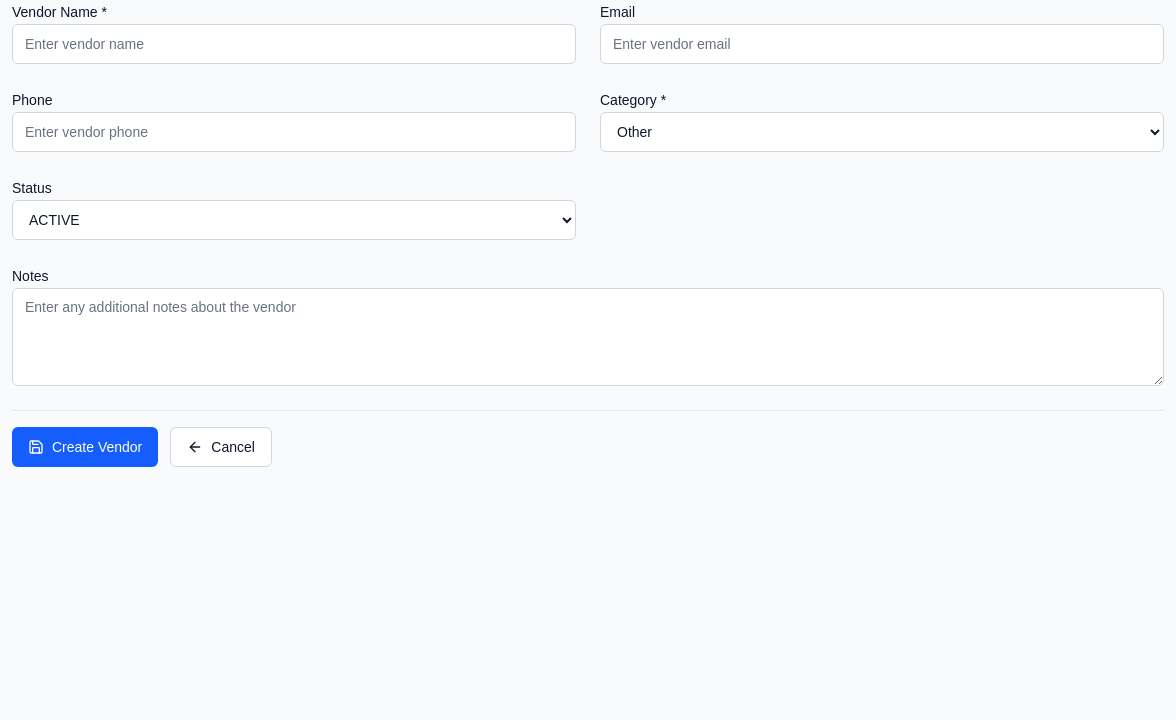
Test: VendorForm › shows validation errors for required fields
Click the button "Create Vendor": click(85, 447) [12,427,158,467]
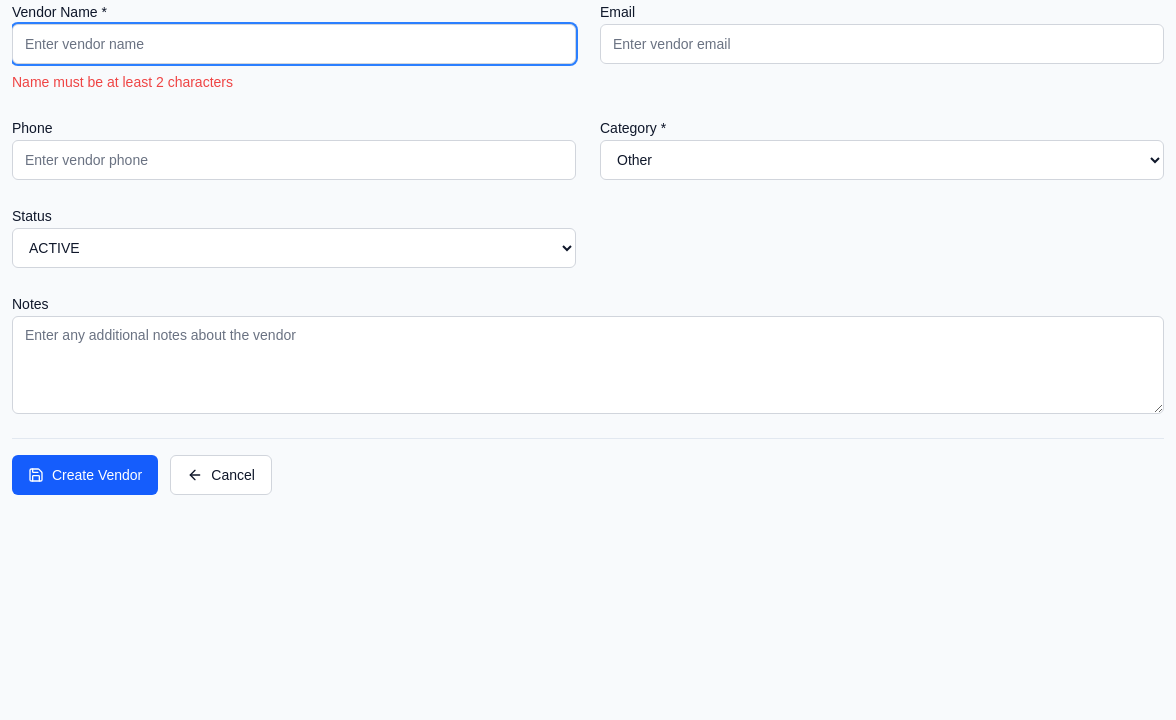
expect the text "Name must be at least 2 characters" is shown: met, box [12,74,233,90]
